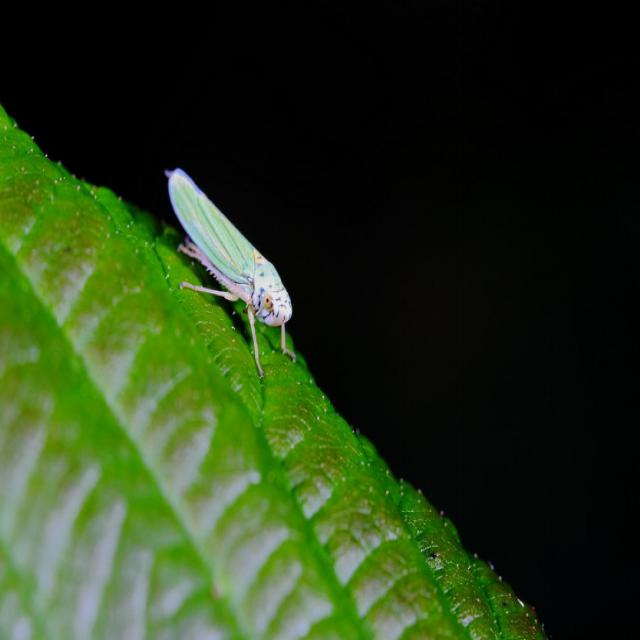Yechan: (158, 158, 308, 340)
